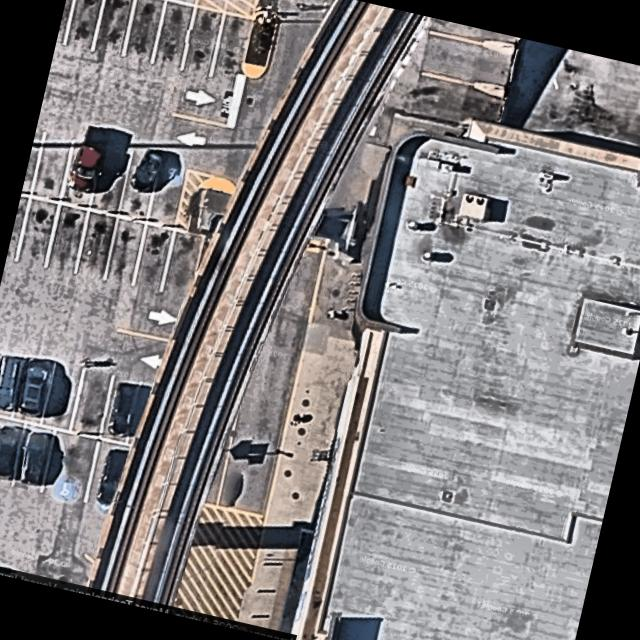car: (67, 121, 113, 194), (92, 444, 128, 511), (15, 356, 55, 416), (16, 429, 55, 488), (105, 380, 142, 440), (128, 147, 168, 197), (0, 424, 25, 483), (0, 352, 23, 414)
lot_boundary: (0, 0, 253, 588)
stall: (40, 429, 98, 503), (84, 440, 130, 510), (103, 217, 147, 287), (11, 423, 55, 493), (180, 6, 224, 75), (209, 13, 253, 82), (117, 153, 161, 222), (131, 224, 175, 293), (30, 132, 74, 201), (60, 140, 104, 209), (88, 146, 132, 215), (45, 204, 89, 273), (73, 210, 117, 279), (146, 160, 190, 229), (39, 362, 83, 431), (70, 368, 114, 437), (160, 231, 204, 300), (16, 196, 60, 265), (11, 357, 55, 426), (99, 375, 143, 444), (151, 0, 195, 68), (122, 0, 166, 62), (92, 0, 136, 56), (63, 0, 107, 49), (0, 416, 26, 485), (0, 349, 25, 418), (56, 0, 78, 41)
